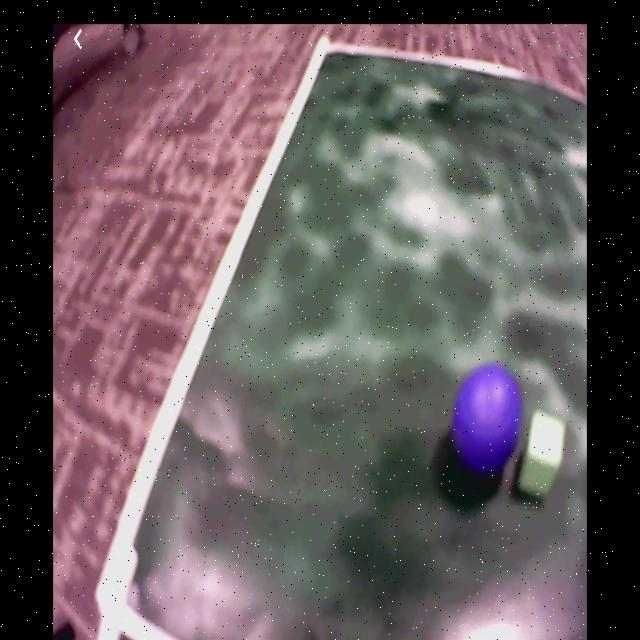ball: (457, 366, 522, 475)
